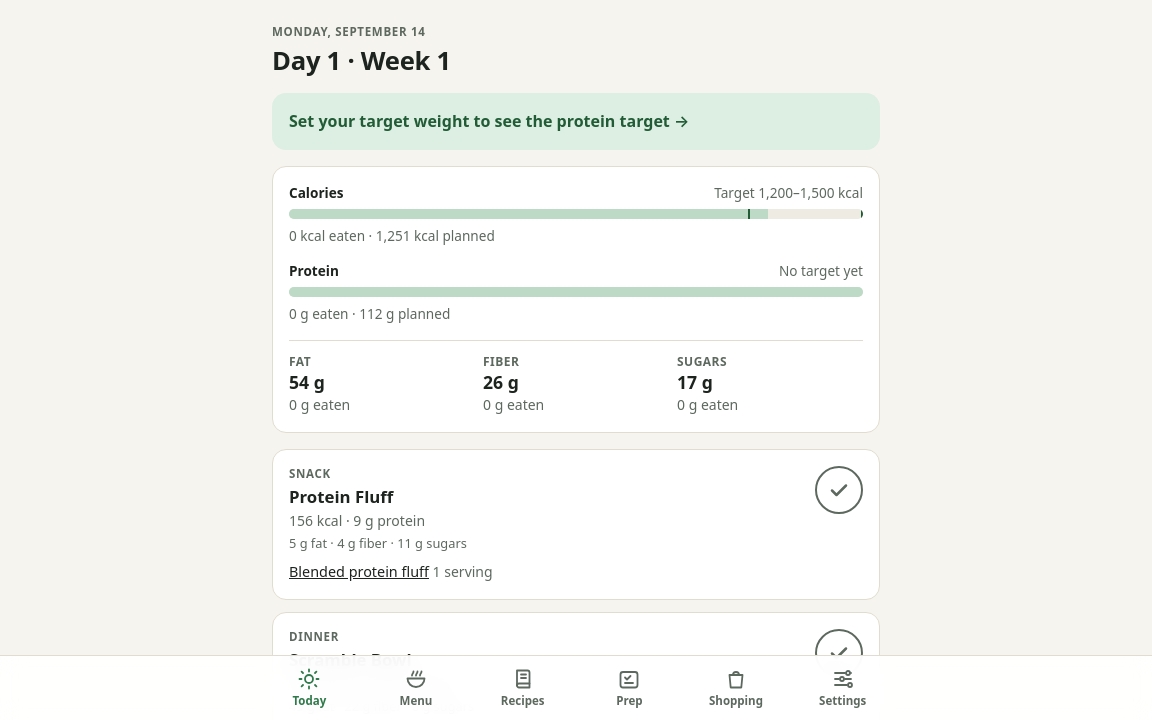
Test: Today › marks a meal eaten, updates totals and saves it
What coordinates should you click on to do the following:
click the button named "Protein Fluff eaten"
I would click on:
 (839, 490)
Its box is [815,466,863,514].
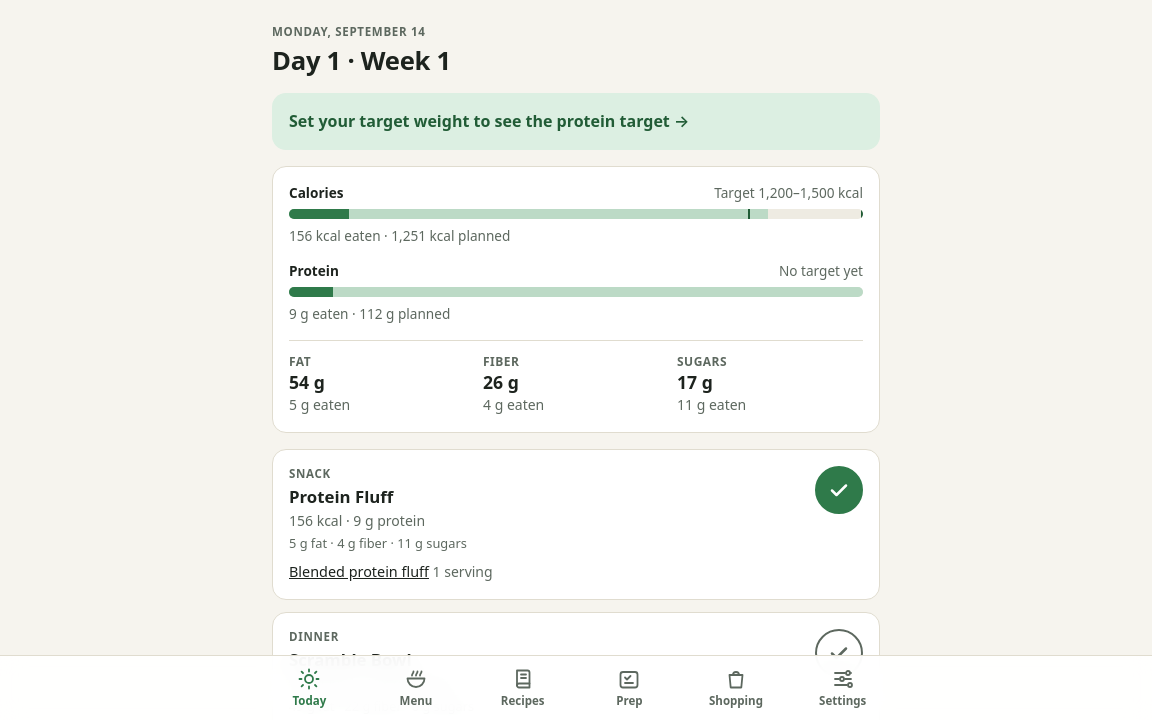
Result: the element named "Daily totals" shows "156 kcal eaten" at [289,226,510,245]
